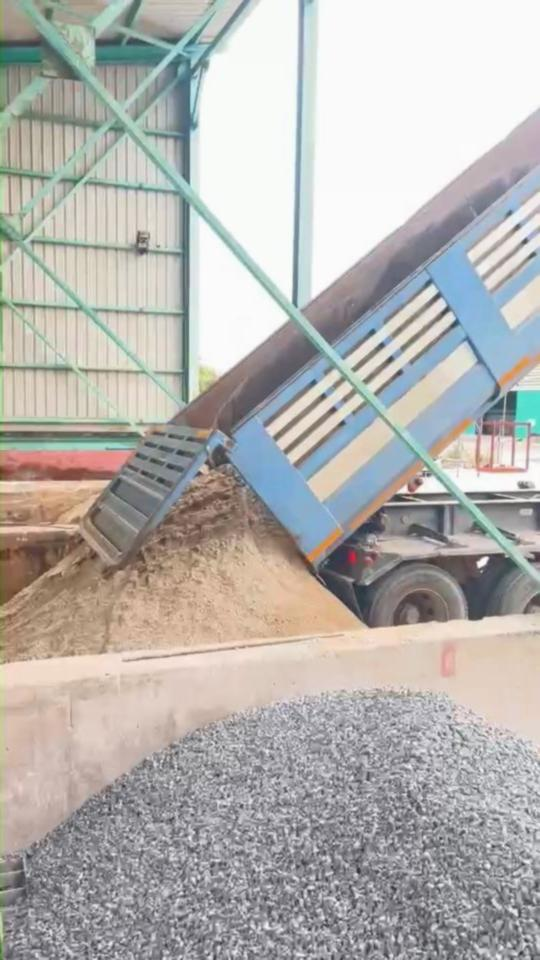gravel: (6, 692, 540, 959)
sand: (2, 467, 359, 660), (59, 495, 97, 525)
